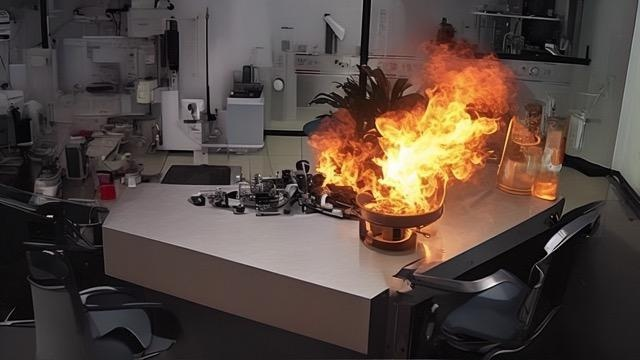fire: (304, 24, 516, 242)
